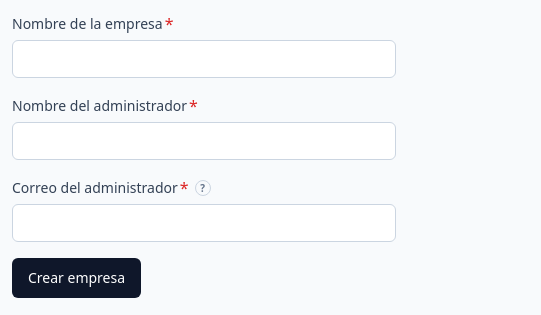
CreateTenantForm › POSTs exactly companyName/adminFullName/adminEmail, never a password
In the field labelled "Nombre de la empresa": coordinates (204, 59) [12,40,396,78], type "Acme"
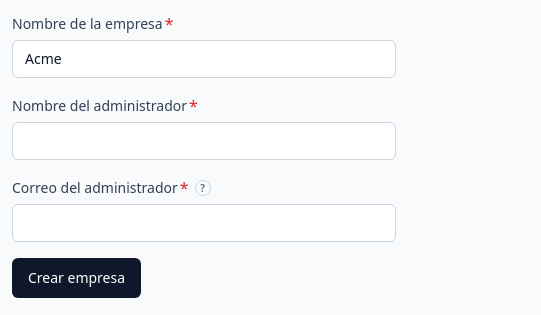
In the field labelled "Nombre del administrador": coordinates (204, 141) [12,122,396,160], type "Jane Doe"
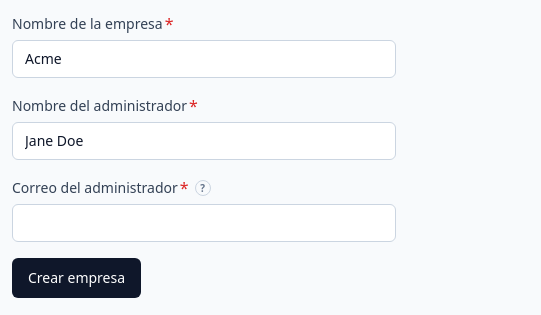
In the field labelled "Correo del administrador": coordinates (204, 223) [12,204,396,242], type "jane@acme.test"
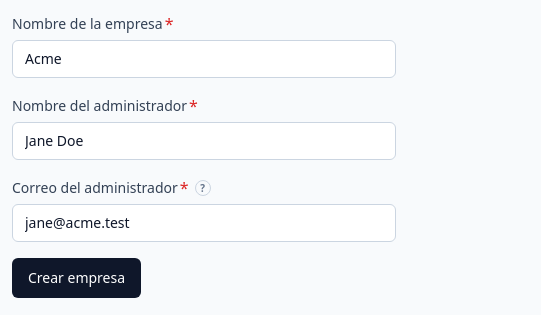
Click the button "Crear empresa": coordinates (77, 278) [12,258,141,298]
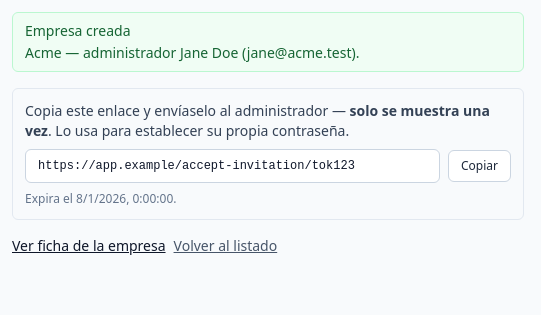
expect the text "Copia este enlace" is shown: met, box [25,101,350,120]
